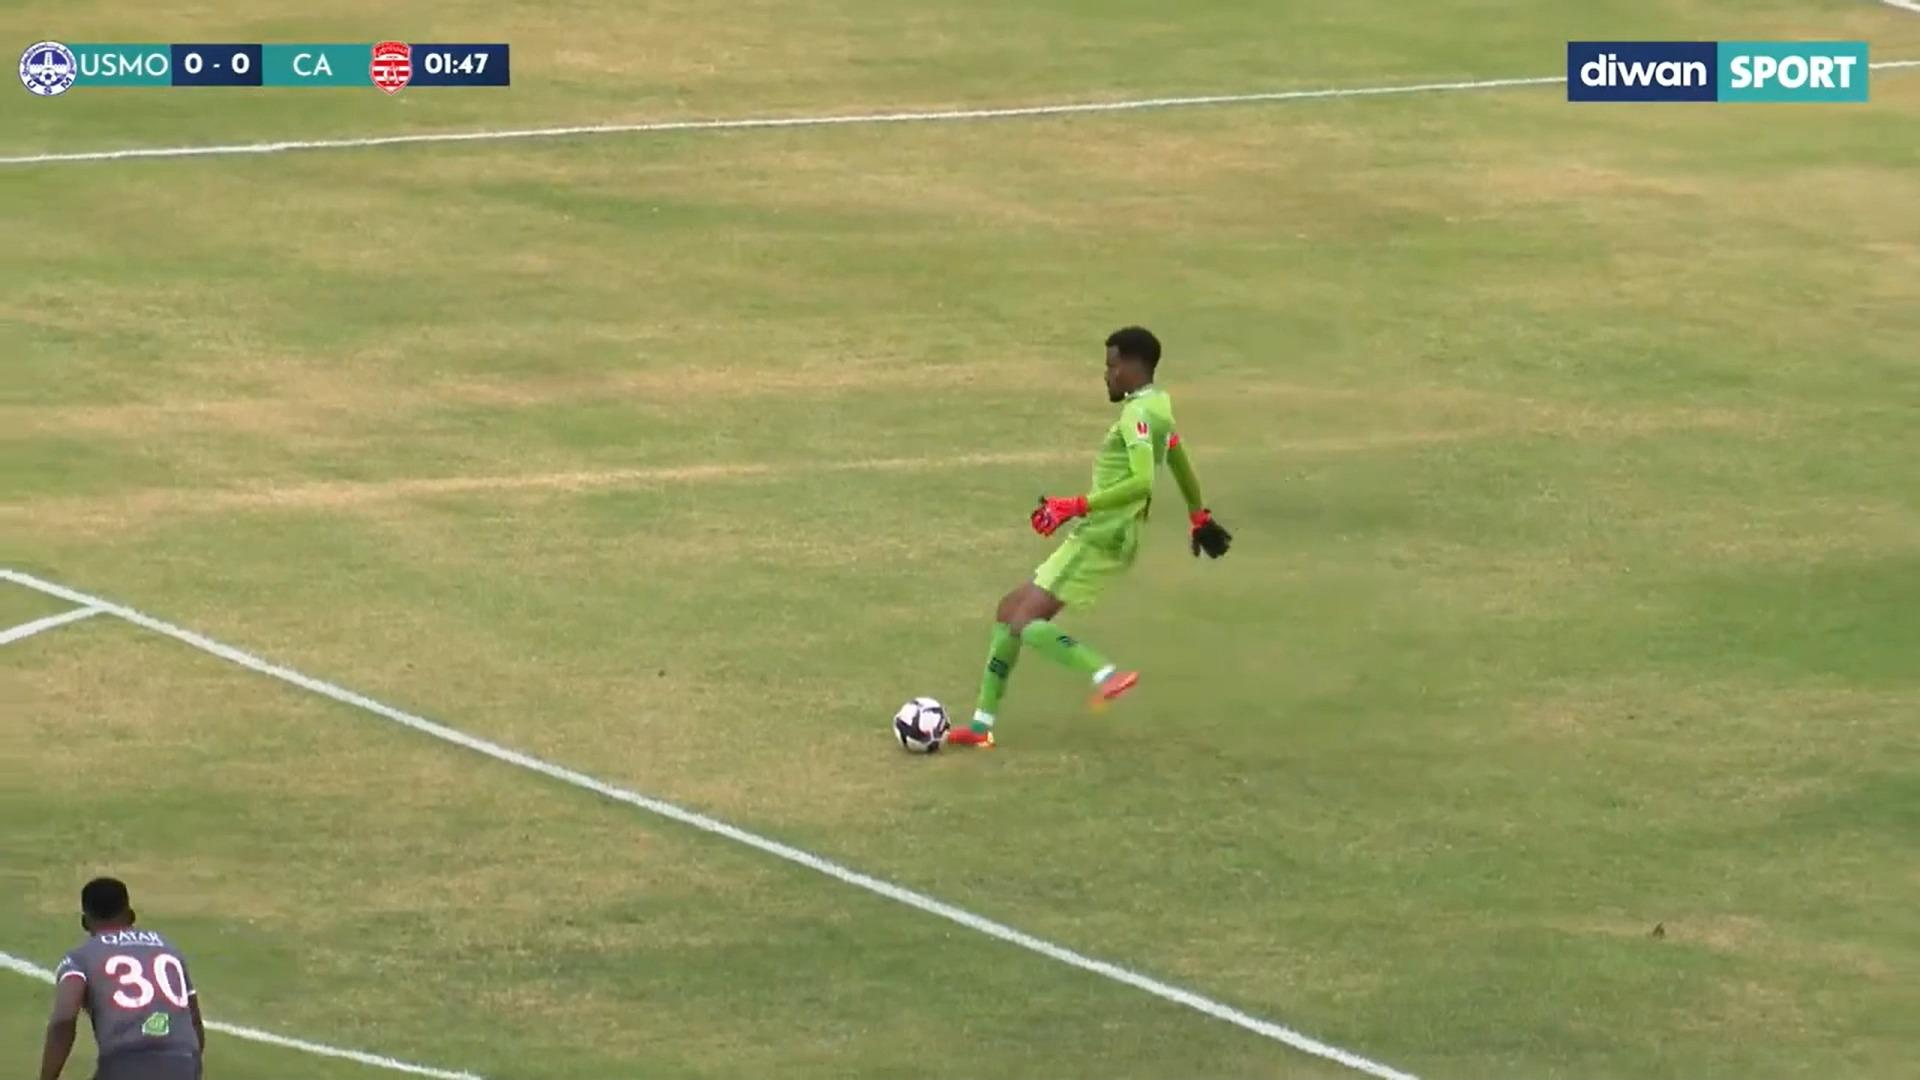ball: (878, 678, 965, 756)
goalkeeper: (985, 287, 1245, 769)
